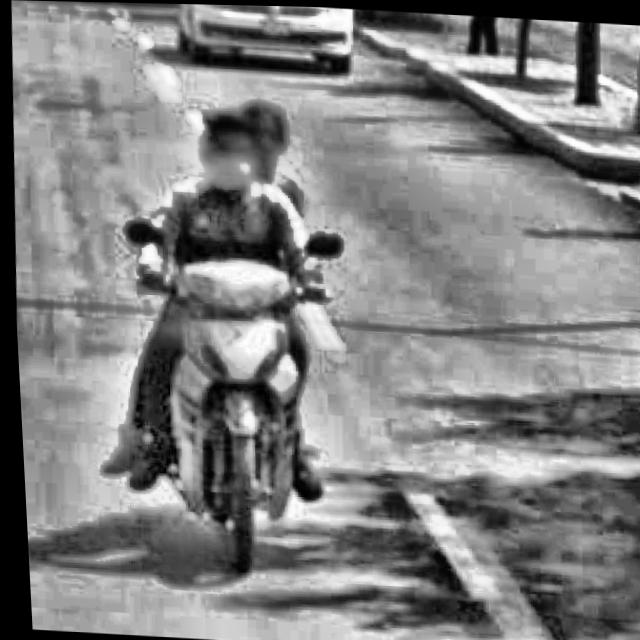motorcycle: (82, 205, 369, 579)
